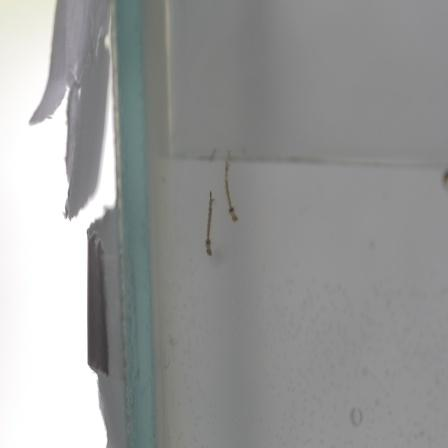Jentik-Nyamuk: (221, 162, 242, 227), (202, 186, 217, 260)
